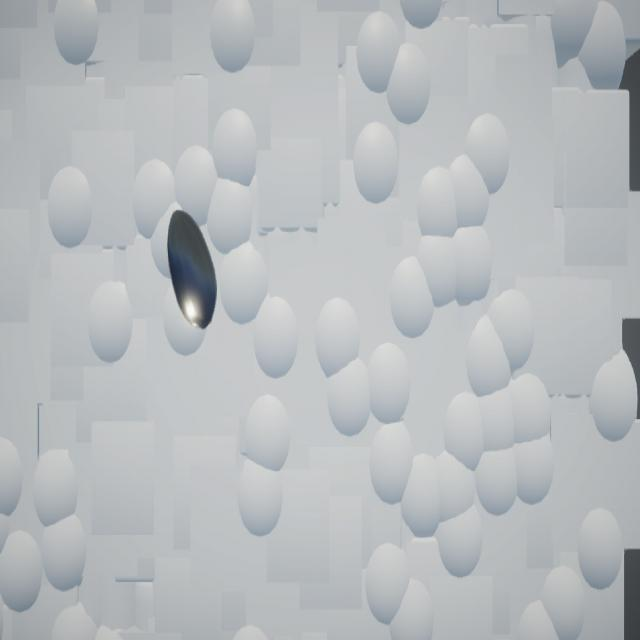top_spoon: (168, 211, 218, 331)
